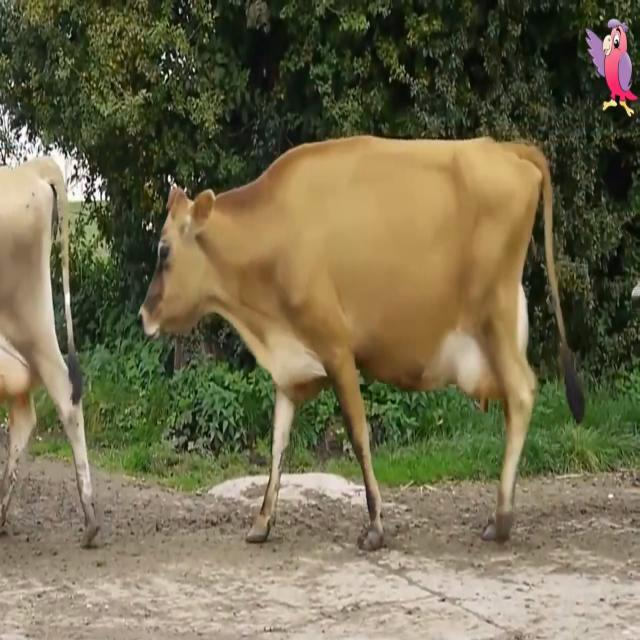cow: (141, 136, 582, 550), (0, 158, 100, 547)
